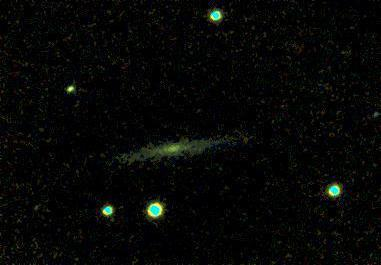star: (20, 193, 50, 223)
